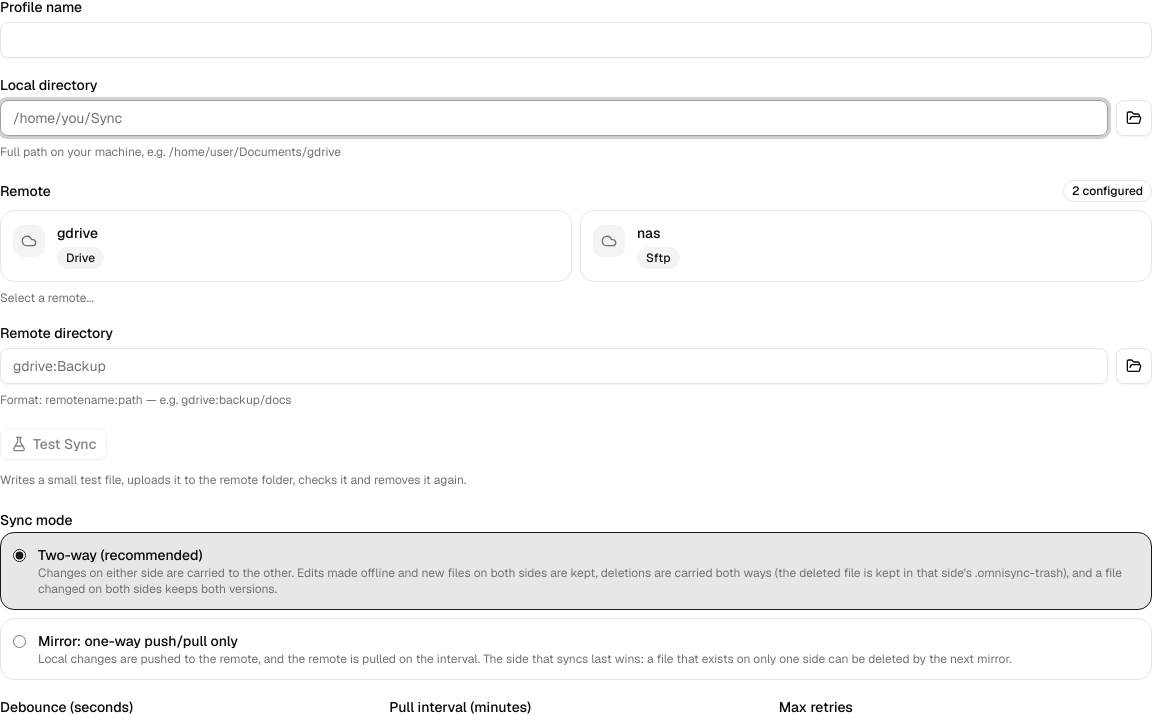
Test: ProfileForm directory browsing › the local browse button opens a local DirBrowser that fills the local directory
Step 1. Type keys "/data"
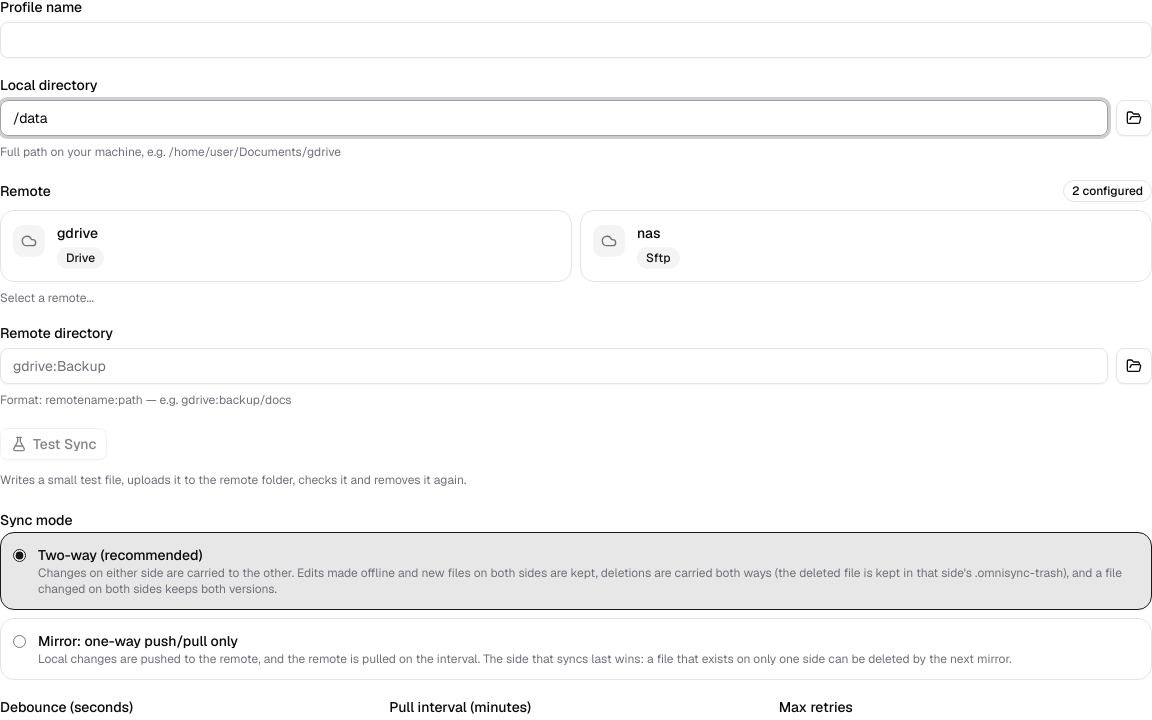
Step 2. Click the button named "Browse local directory" → click(1134, 118), box left=1116, top=100, right=1151, bottom=136
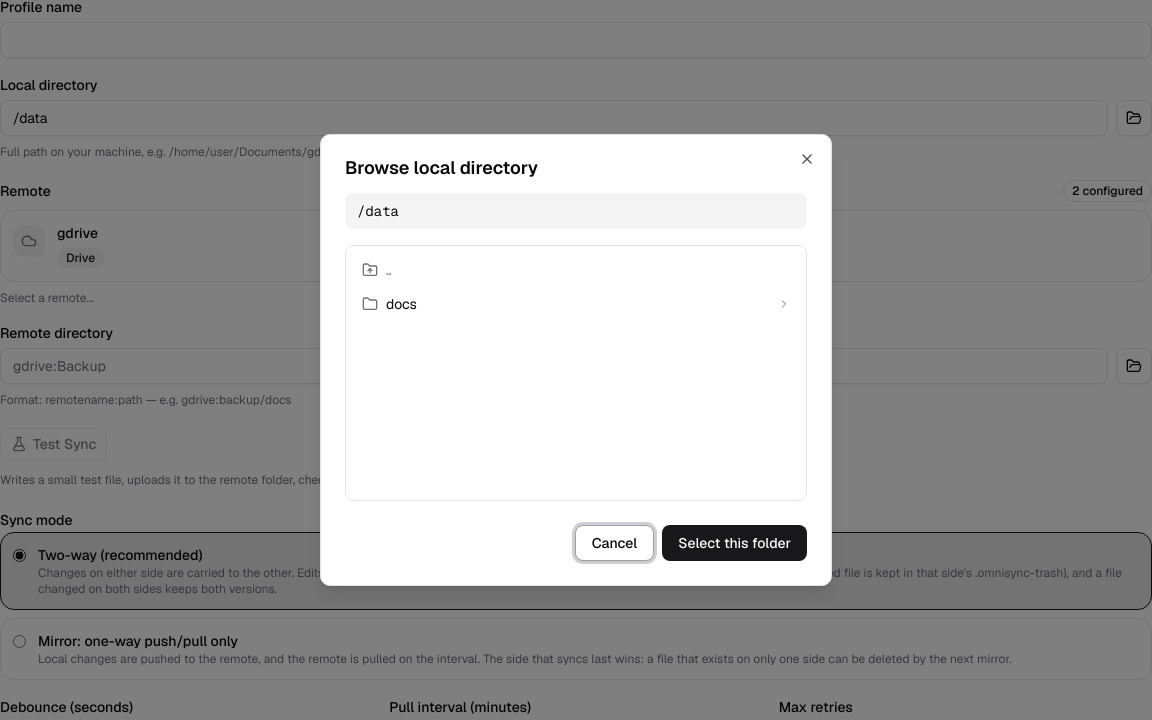
Step 3. Click the button "docs" → click(401, 304), box left=354, top=288, right=798, bottom=320
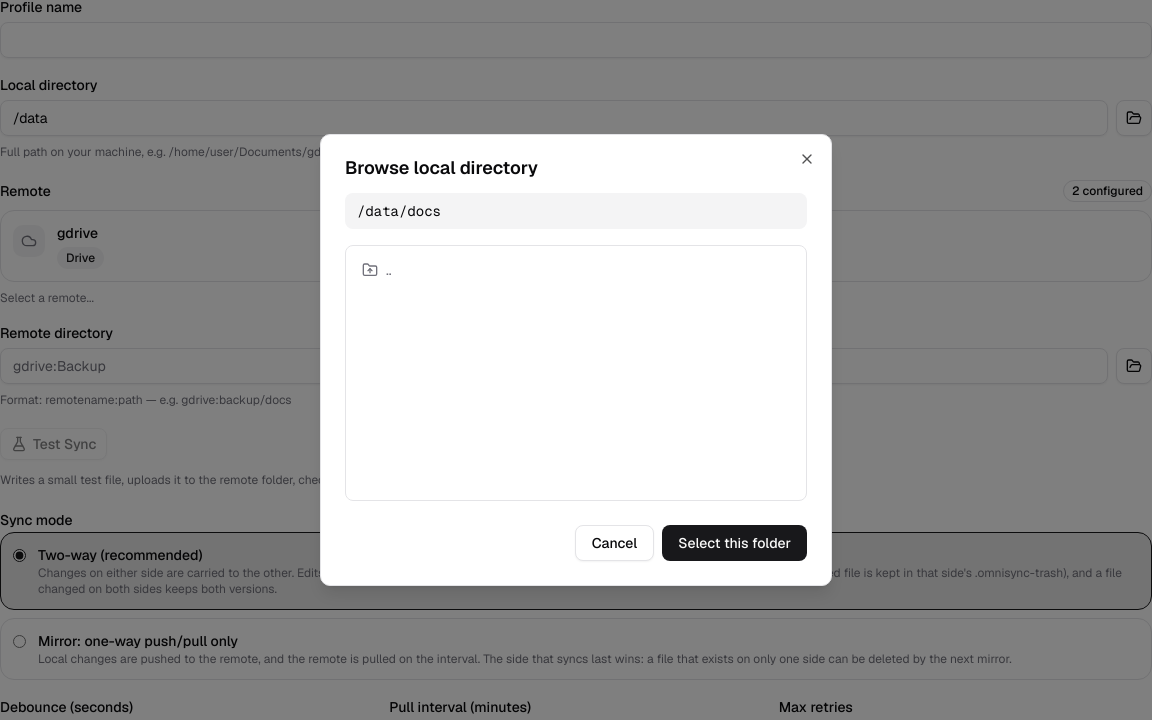
Check: the text "/data/docs" is shown, box left=345, top=193, right=807, bottom=229
Step 4. Click the button "Select this folder" → click(735, 543), box left=662, top=525, right=807, bottom=561
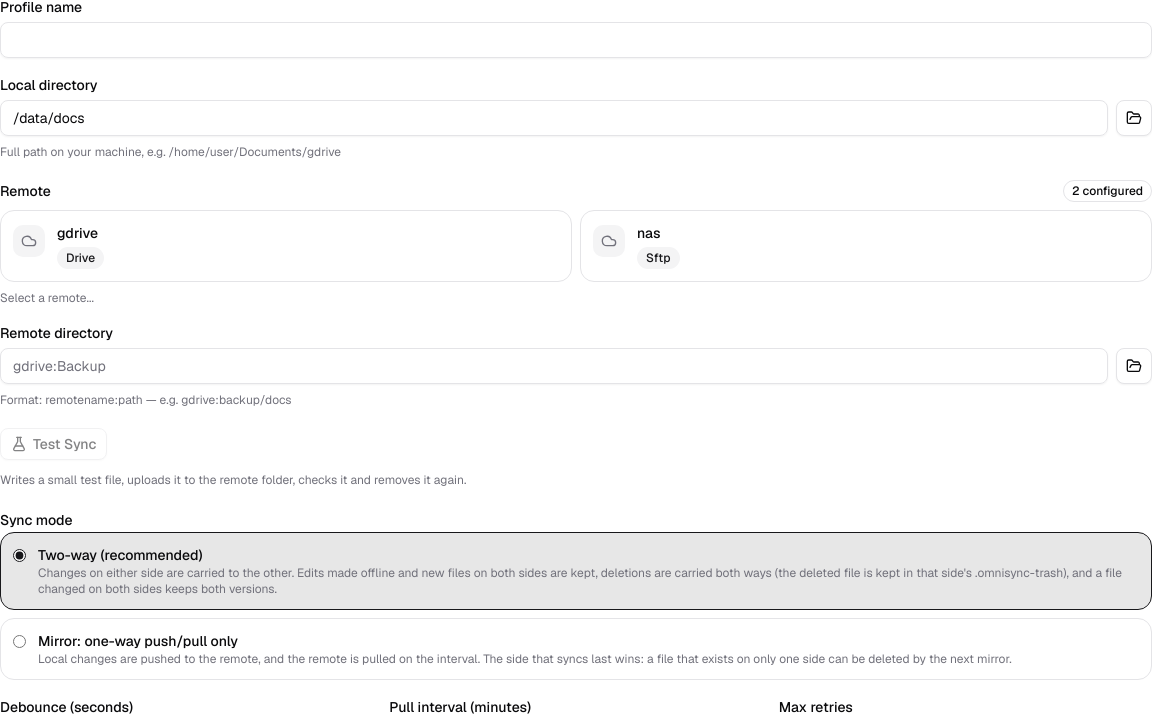
Check: the dialog is gone
Check: the field labelled "Local directory" holds "/data/docs", box left=0, top=100, right=1108, bottom=136
